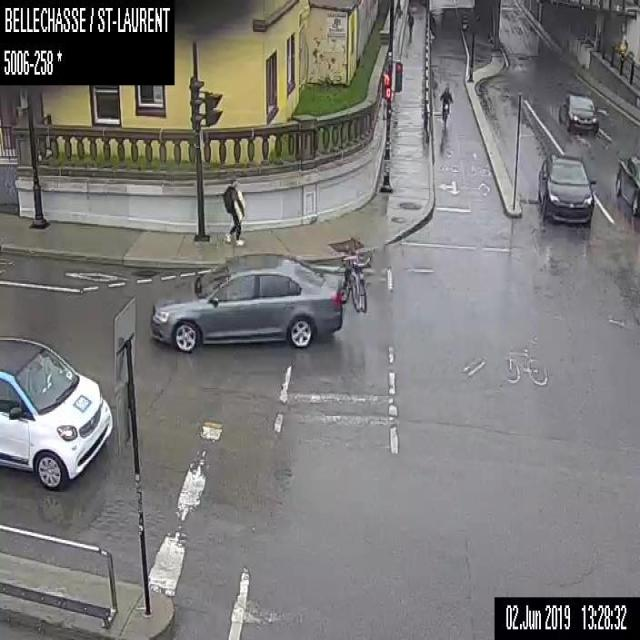cyclist: (439, 84, 453, 129)
pedestrian: (222, 176, 246, 245), (406, 9, 414, 42)
vehicle: (150, 250, 371, 354), (0, 333, 114, 491), (537, 152, 596, 227), (558, 94, 597, 134), (615, 156, 639, 215)
